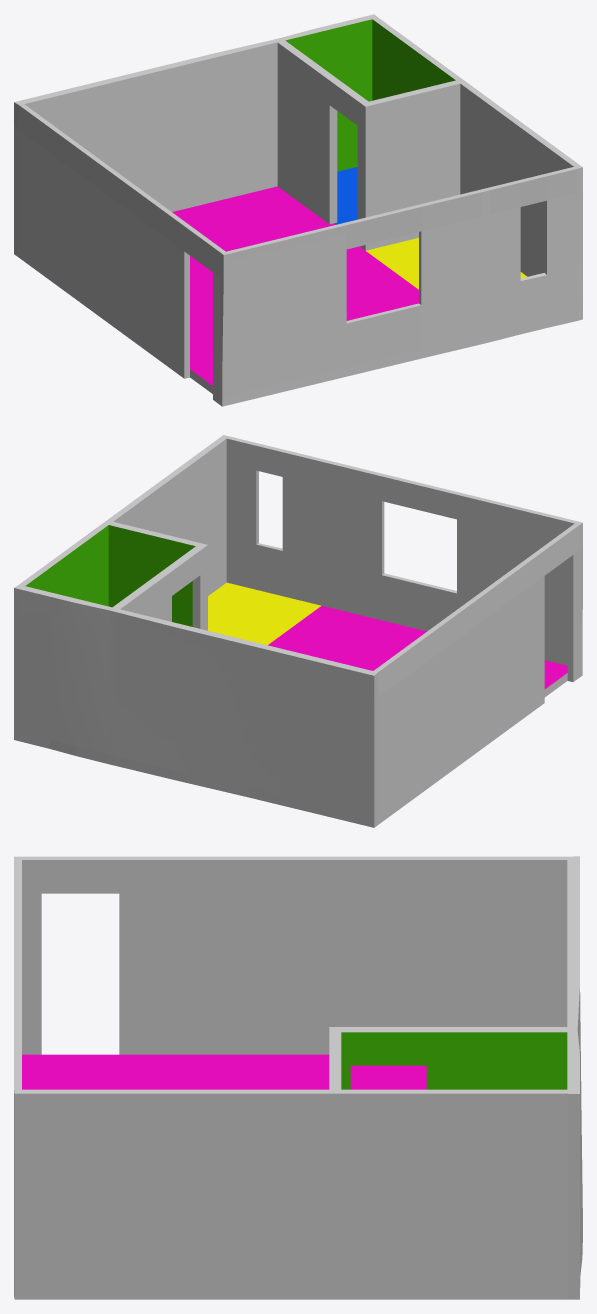
Rendered from Walls.fbx.
3 renders of one model, top to bottom at view 1: azimuth 30°, elevation 25°; view 2: azimuth 150°, elevation 25°; view 3: azimuth 270°, elevation 25°, orthographic. The views are drawn at different scales.
Visible parts, largest first — view 1: Wall1; view 2: Wall1; view 3: Wall1.
Part boxes in pixels (<box>): Wall1: <box>14,14,582,406</box>; Wall1: <box>14,435,582,827</box>; Wall1: <box>14,856,582,1299</box>.
Size of the model in its own units: 809 by 326 by 818.
